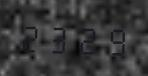nine: (99, 20, 125, 57)
three: (45, 19, 71, 55)
two: (72, 19, 98, 56), (18, 18, 44, 54)
